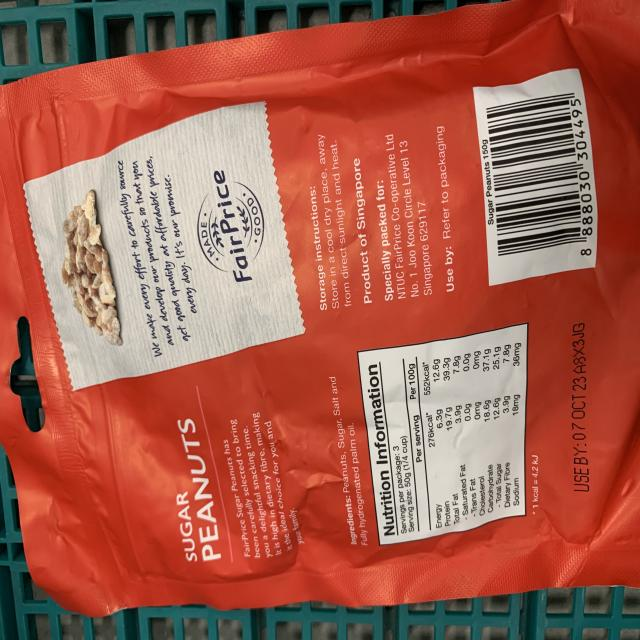object_name: (0, 51, 640, 587)
